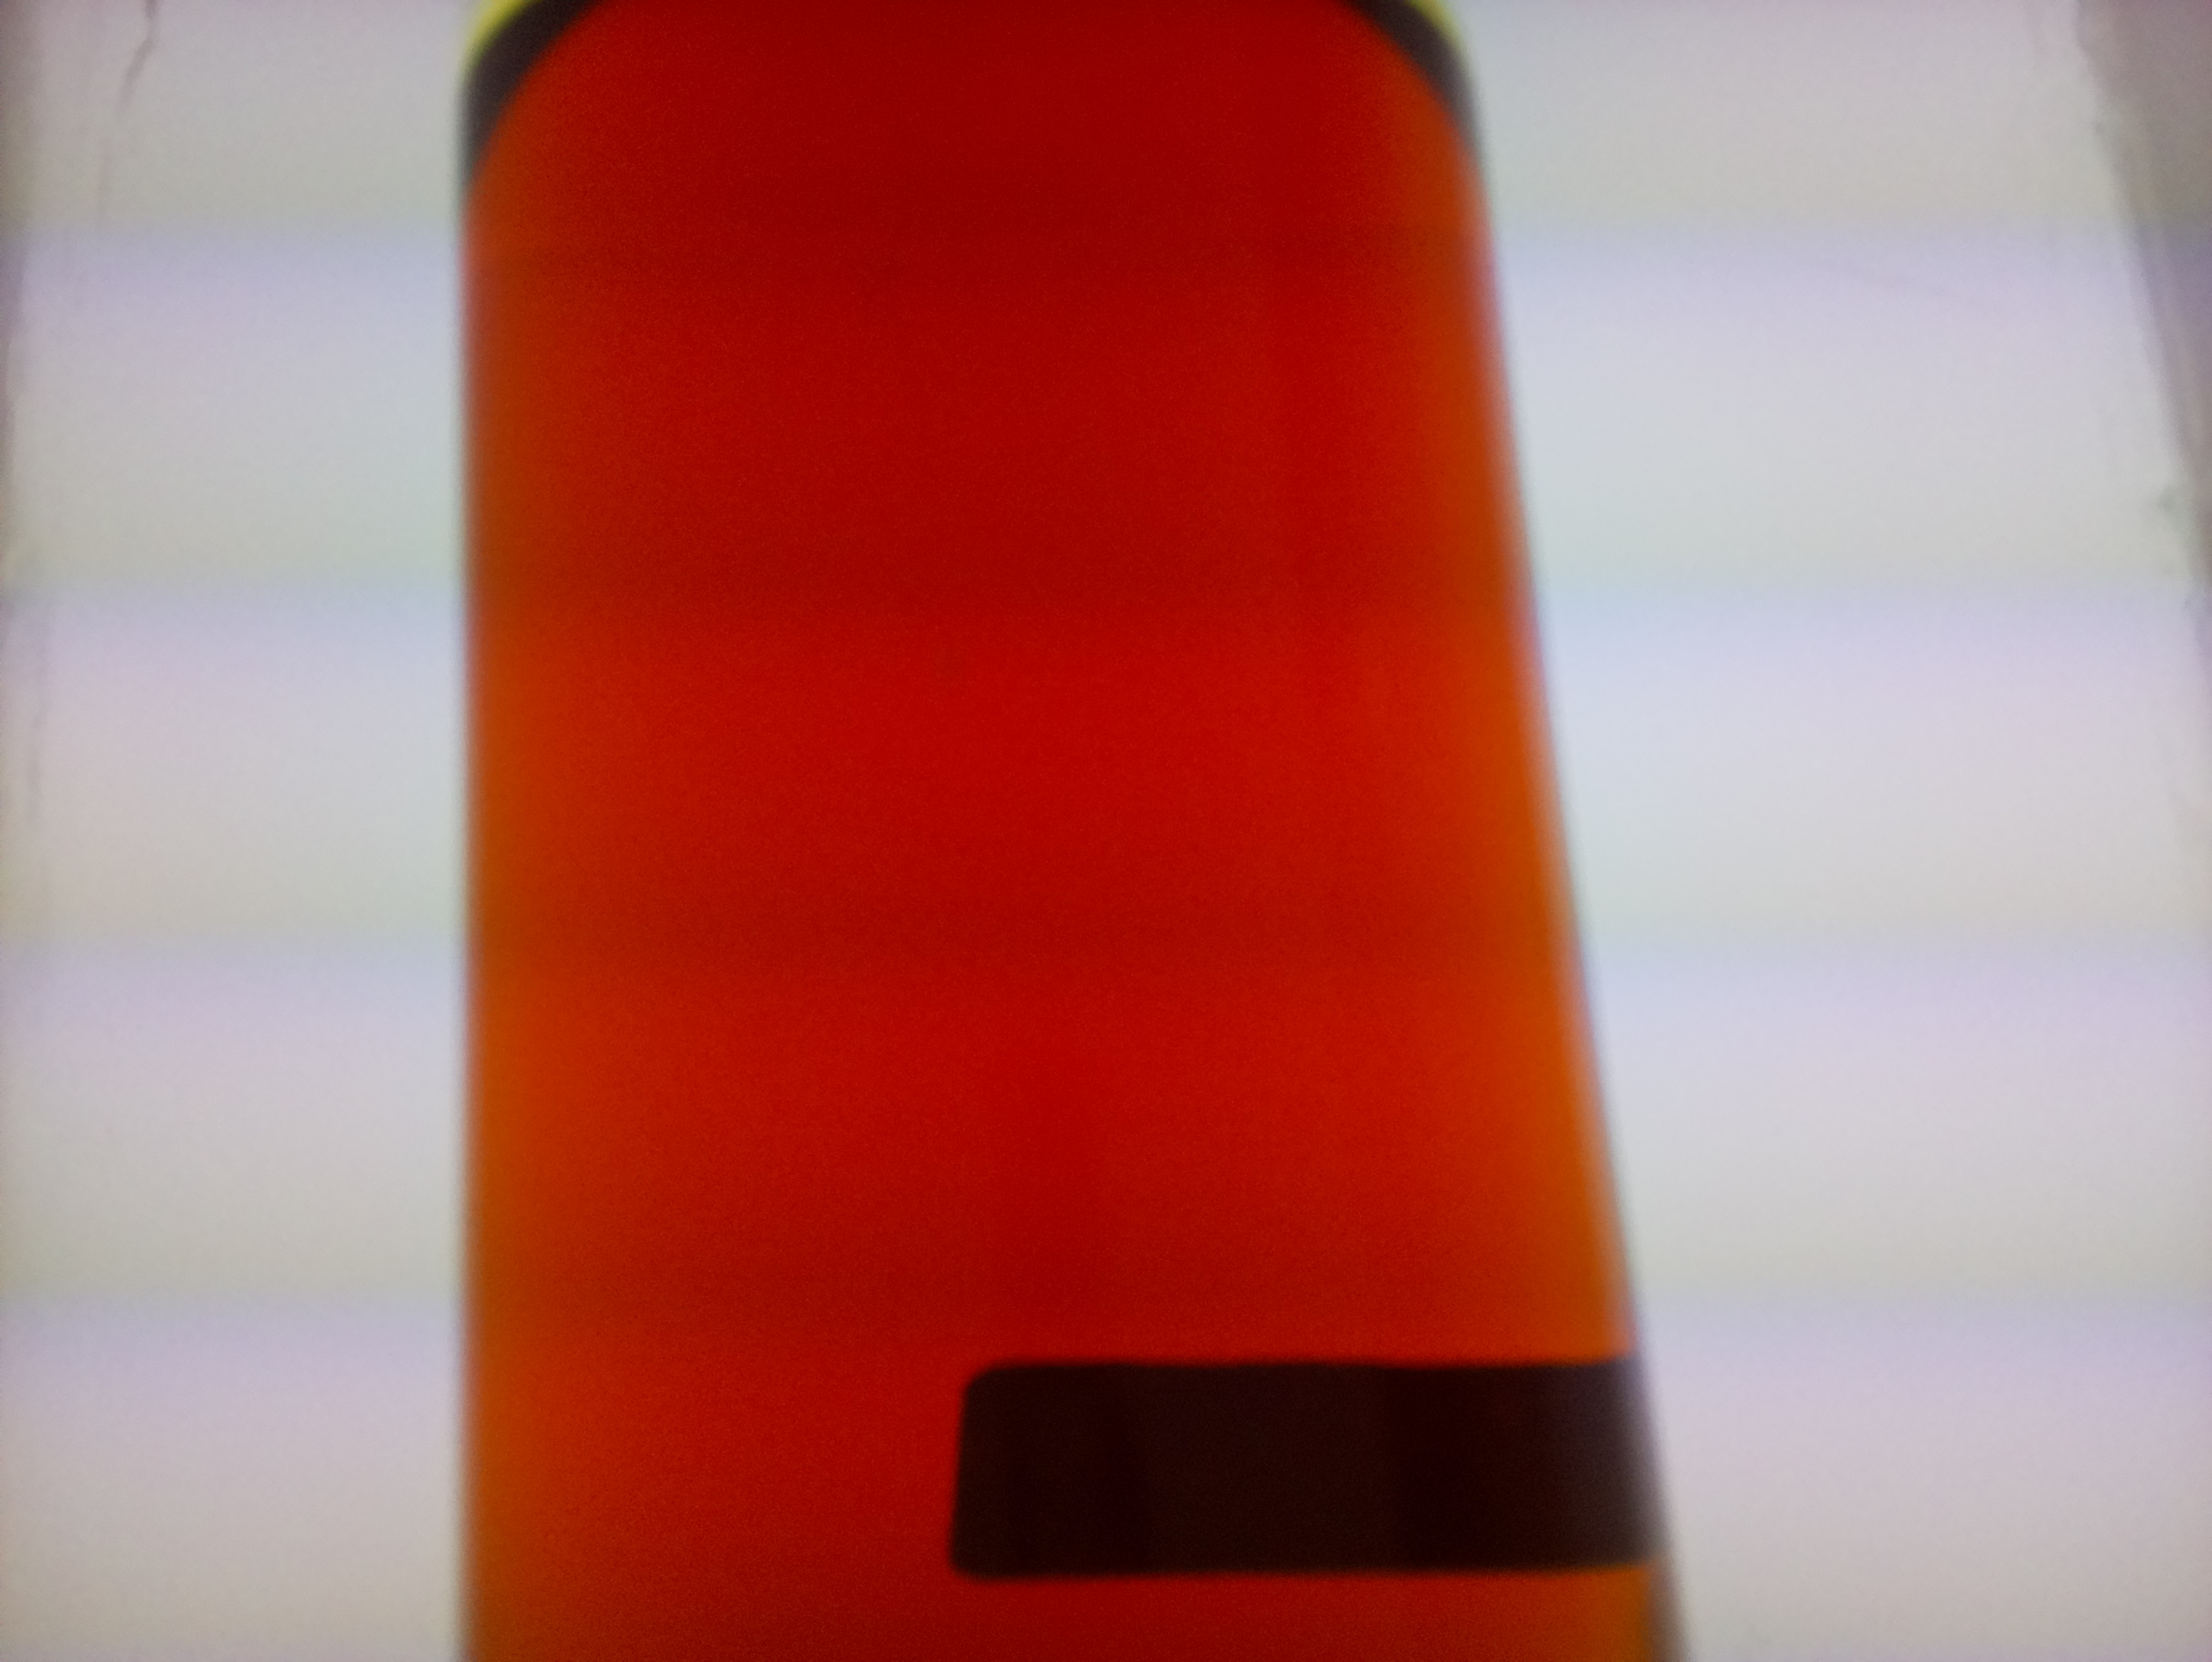colored_area: (464, 0, 1662, 1645)
